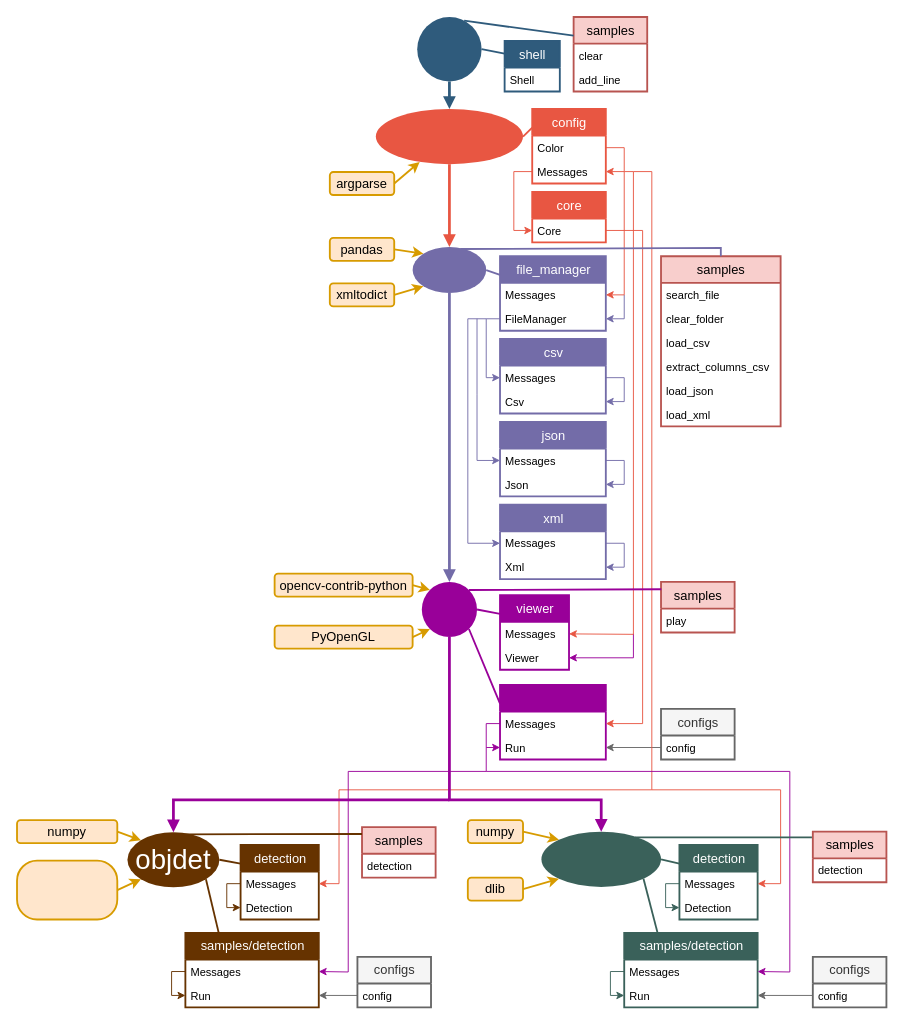
Image size: 903x1026. Some labels were removed from this diagram. The box of each missing label's shape, as (x1, y1, x2, y2) in pixels:
core2pkgs: (375, 109, 523, 164)
facesdet: (541, 831, 661, 886)
filem: (412, 247, 486, 293)
pvv: (421, 581, 477, 637)
samples/play: (499, 684, 606, 760)
tensorflow tensorflow-gpu: (16, 859, 118, 920)
trml: (417, 17, 481, 81)
